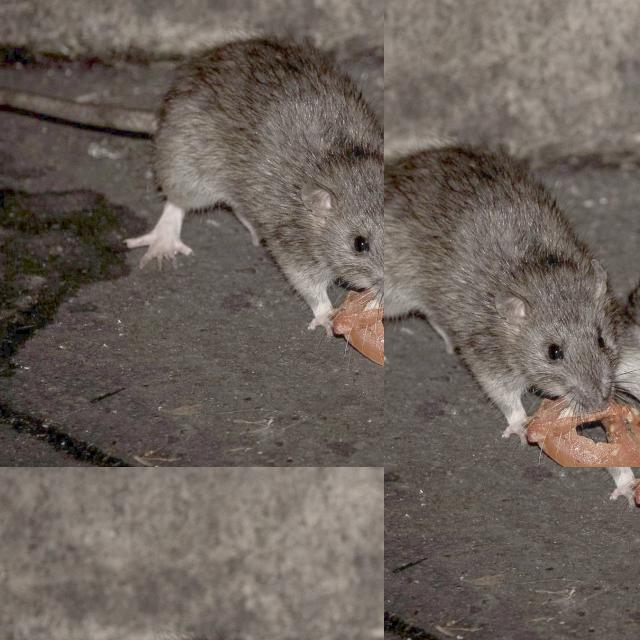rat: (384, 0, 561, 265)
